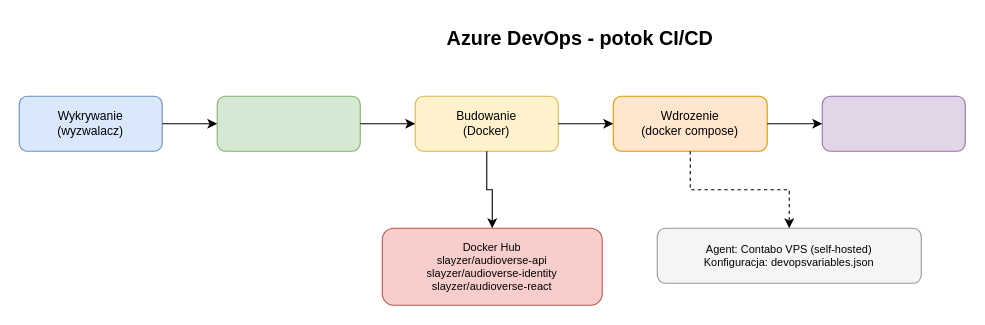
Image size: 985x325. Some labels were removed from this diagram. The shapes that lost their labels are listed below. From the top down, each one's centre as x and y in pixels, then its label:
(288,123): Testy (dotnet test)
(893,123): Weryfikacja (health check)
